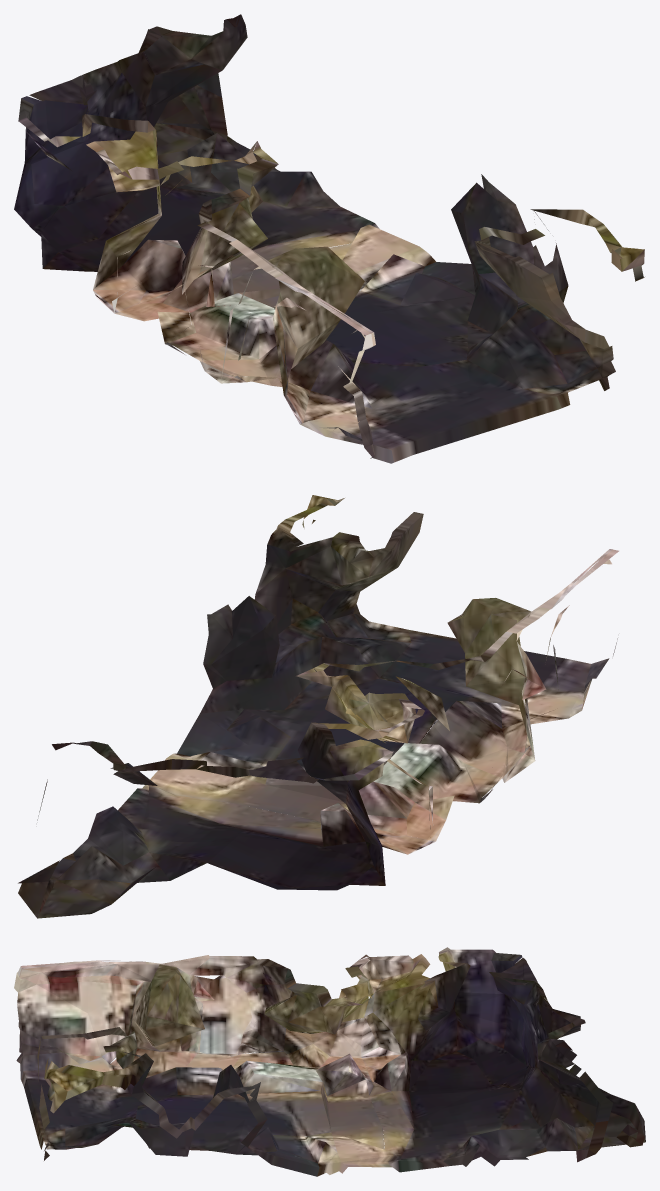
The picture shows the model from 3 angles, top to bottom: view 1: azimuth 30°, elevation 25°; view 2: azimuth 150°, elevation 25°; view 3: azimuth 270°, elevation 25°; orthographic projection. The views are drawn at different scales.
Parts seen in each view (by area): view 1: Mesh_0; view 2: Mesh_0; view 3: Mesh_0.
Part boxes in pixels (<box>): Mesh_0: <box>14,14,644,463</box>; Mesh_0: <box>18,495,618,918</box>; Mesh_0: <box>14,947,645,1176</box>.
Bounding box in the file's own units: 16.89 × 7.24 × 35.12.
1 material, 1 textured.
